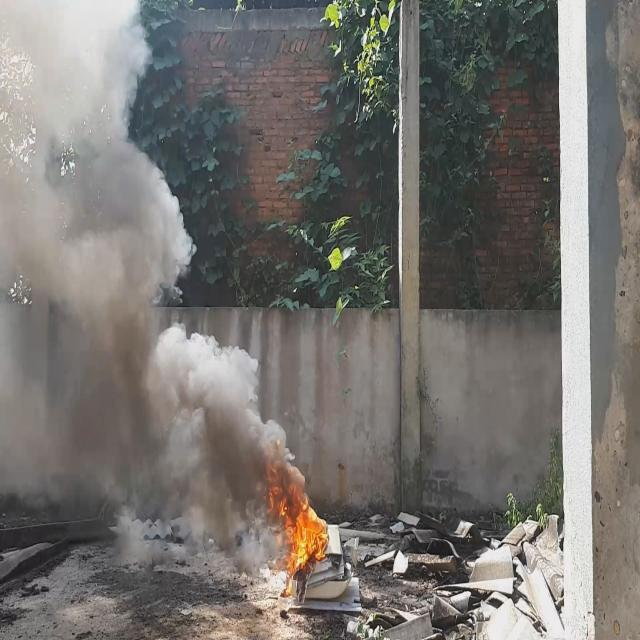Fire: (266, 466, 332, 592)
Smoke: (0, 0, 308, 550)
